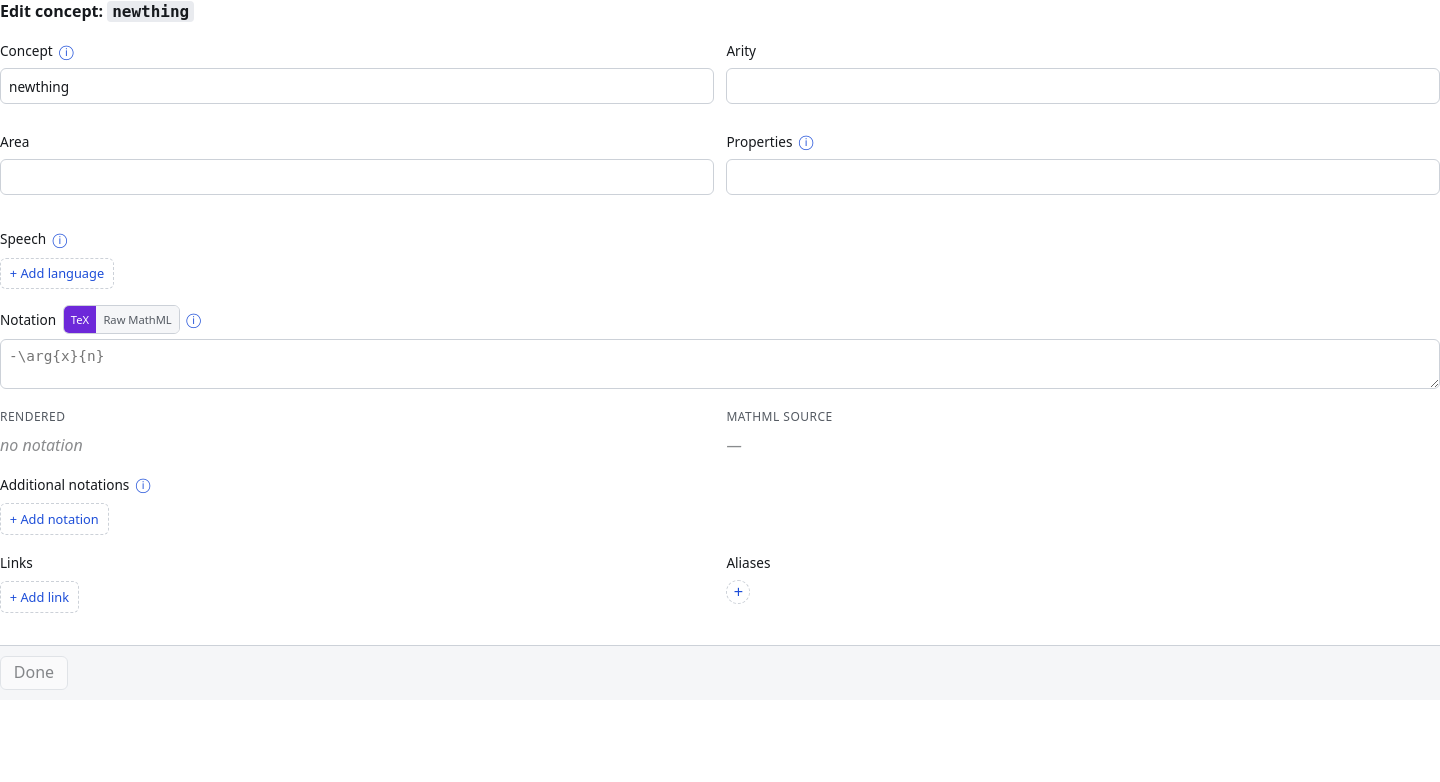
NotationEditor › warns when an alias already names another concept
Click the button named "Add alias". click: (738,592)
box: [726,580,750,604]
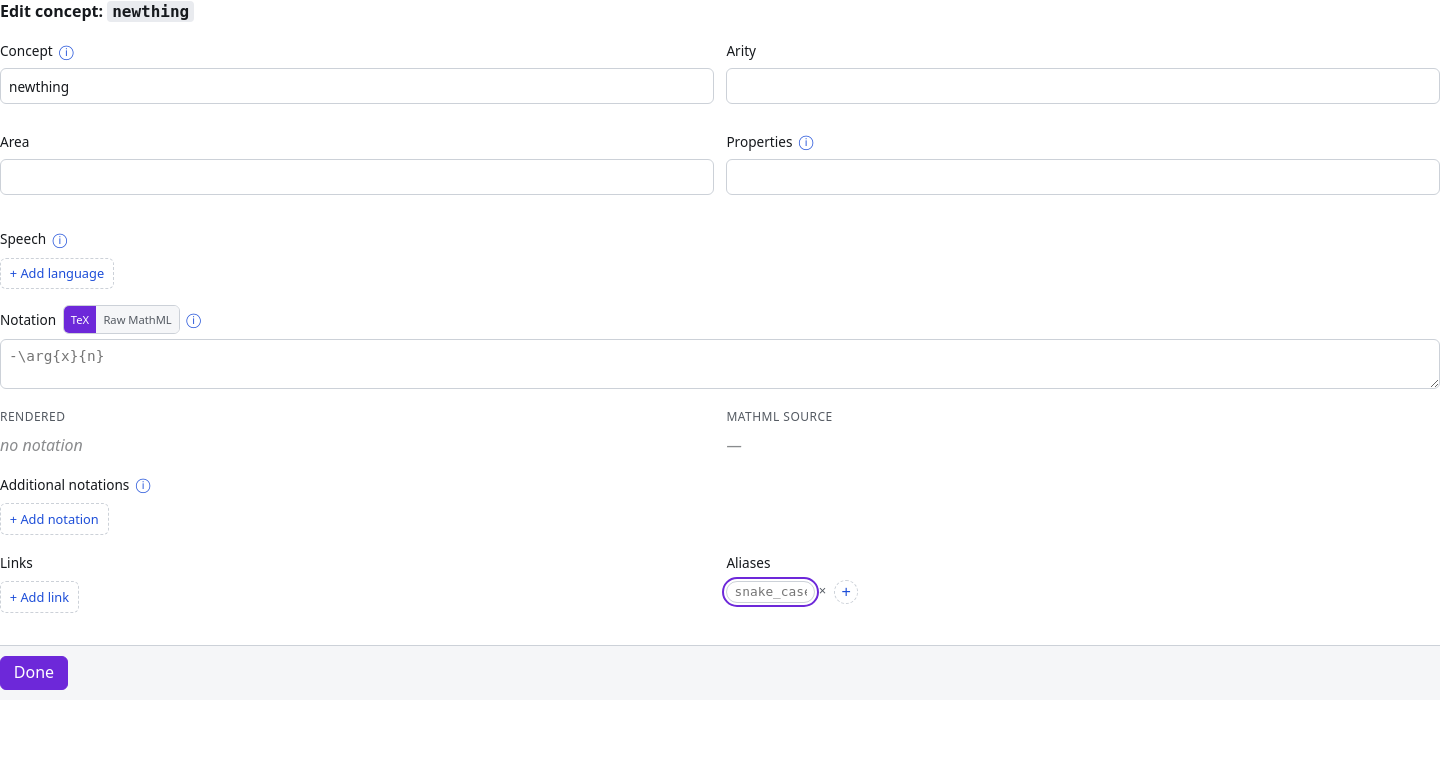
Type "cup" into the field named "Alias". click: (771,592)
box: [726,581,815,603]
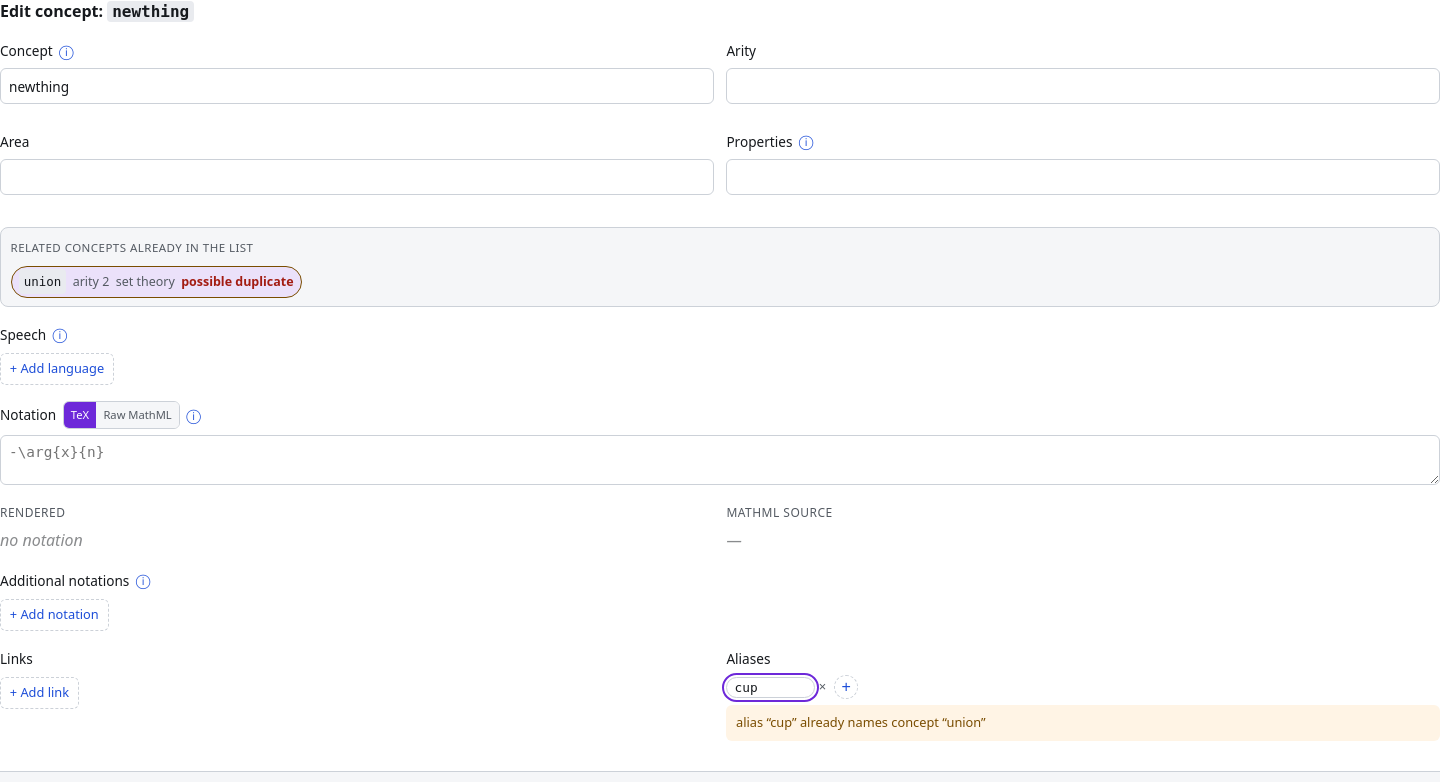
Check: the message with test id "alias-warning" shows "union", box [736,713,986,731]
